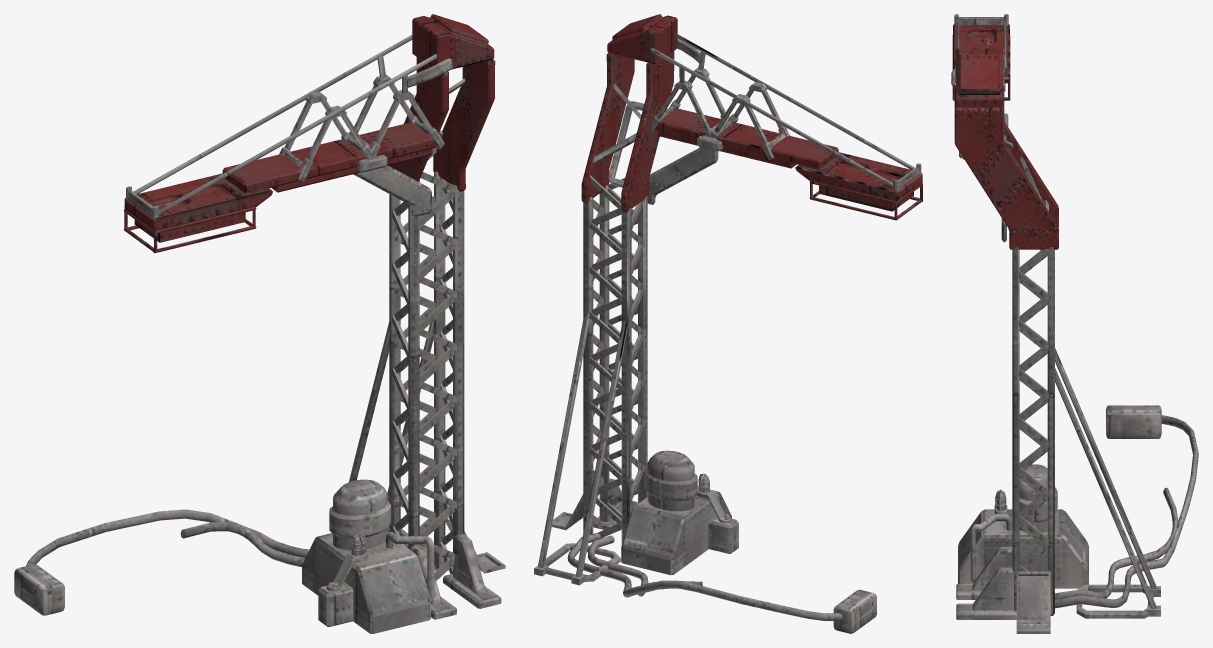
The model's file is train-stop.glb.
3 views of the same model, side by side, from view 1: azimuth 30°, elevation 25°; view 2: azimuth 150°, elevation 25°; view 3: azimuth 270°, elevation 25° (orthographic). The views are drawn at different scales.
Visible parts, largest first — view 1: body; view 2: body; view 3: body.
Part boxes in pixels (x1=…): body: x1=14, y1=14, x2=505, y2=633; body: x1=534, y1=14, x2=922, y2=633; body: x1=951, y1=14, x2=1198, y2=633.
Bounding box in the file's own units: 3.54 × 4.76 × 1.96.
Materials: 1 (1 with a texture image).
